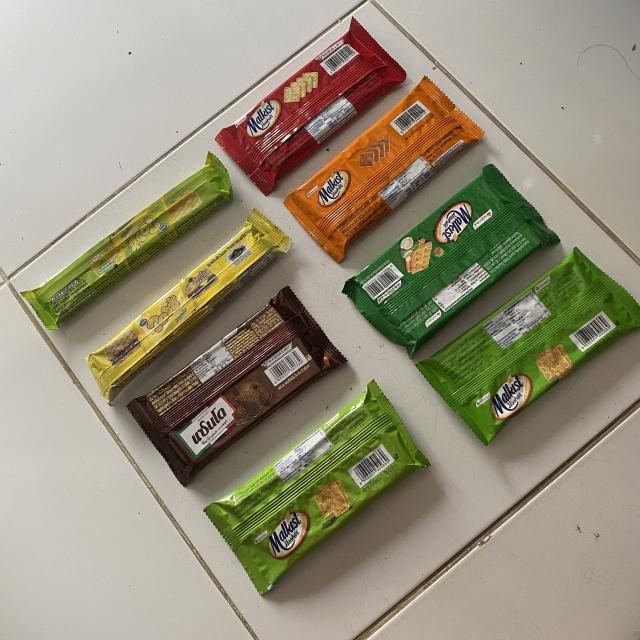plastik: (205, 381, 429, 594), (418, 248, 640, 445), (128, 288, 346, 485), (342, 164, 559, 356), (88, 210, 291, 401), (22, 154, 232, 330), (285, 76, 484, 261), (216, 18, 406, 195)
